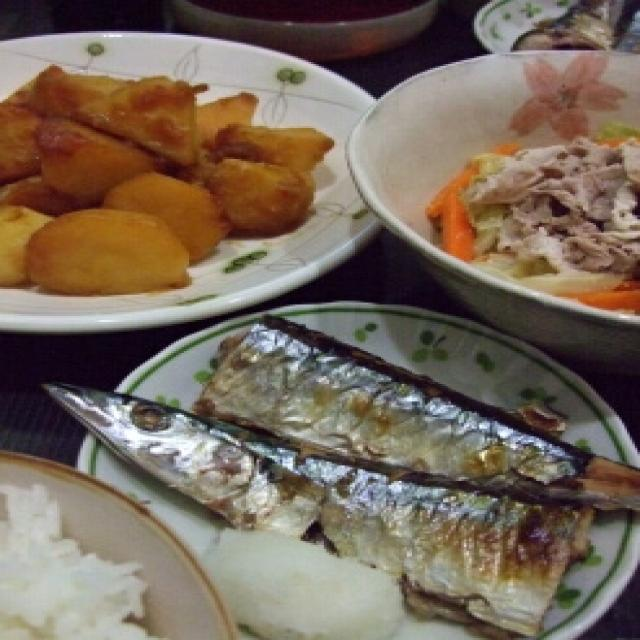熟制海鲜: (26, 336, 640, 624)
